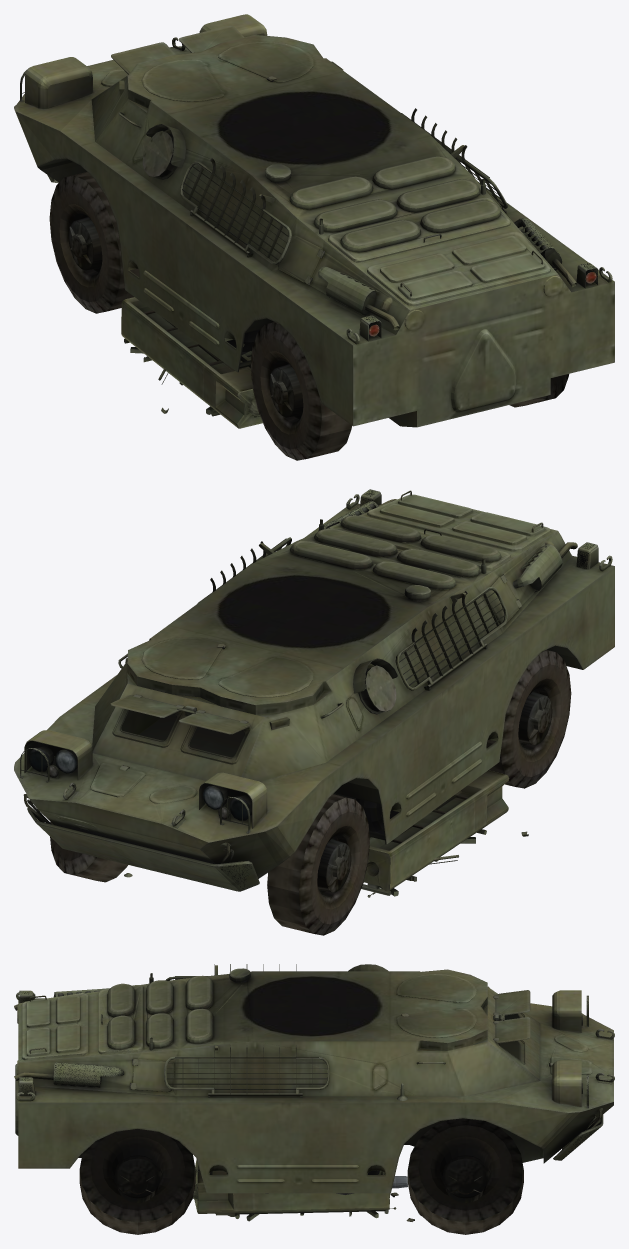
File: strela1.glb
3 views of the same model, one above another, from view 1: azimuth 30°, elevation 25°; view 2: azimuth 150°, elevation 25°; view 3: azimuth 270°, elevation 25° (orthographic). The views are drawn at different scales.
Visible parts, largest first — view 1: body|Material.001, cradle|Material.001; view 2: body|Material.001, cradle|Material.001; view 3: body|Material.001, cradle|Material.001.
Part boxes in pixels (x1,y1,x2,y2): body|Material.001: (14, 14, 614, 460); cradle|Material.001: (121, 297, 262, 428); body|Material.001: (14, 489, 614, 935); cradle|Material.001: (361, 770, 509, 897); body|Material.001: (14, 964, 614, 1234); cradle|Material.001: (193, 1160, 396, 1221).
Bounding box in the file's own units: 2.85 × 2.11 × 5.75.
Materials: 4 (4 with a texture image).
